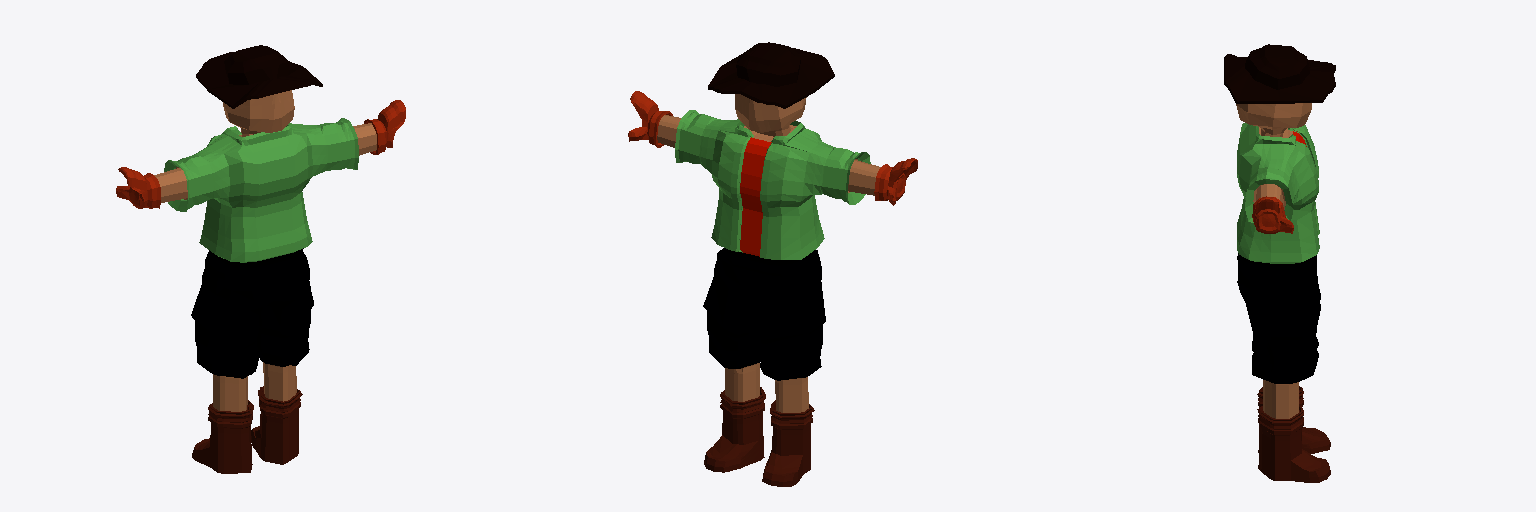
Rendered from BocahNgapaYa.obj.
3 views of the same model, side by side, from view 1: azimuth 30°, elevation 25°; view 2: azimuth 150°, elevation 25°; view 3: azimuth 270°, elevation 25° (orthographic).
Parts seen in each view (by area): view 1: Cube; view 2: Cube; view 3: Cube.
Boxes of the visible parts, box(x1,y1,x2,y2) form: Cube: box(116, 45, 405, 473); Cube: box(628, 42, 917, 486); Cube: box(1224, 44, 1335, 482).
Bounding box in the file's own units: 10.31 × 14.48 × 3.6.